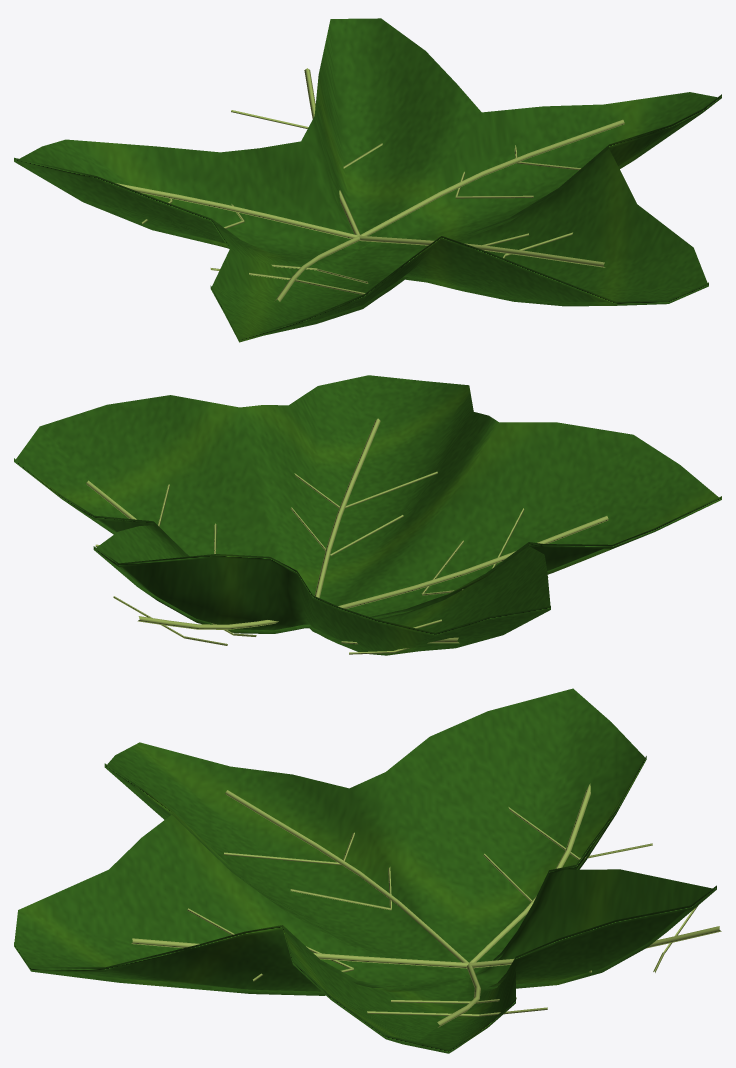
File: leaf-green.glb
3 views of the same model, one above another, from view 1: azimuth 30°, elevation 25°; view 2: azimuth 150°, elevation 25°; view 3: azimuth 270°, elevation 25° (orthographic). The views are drawn at different scales.
Size of the model in its own units: 0.645 by 0.1278 by 0.5936.
Materials: 2 (1 with a texture image).
